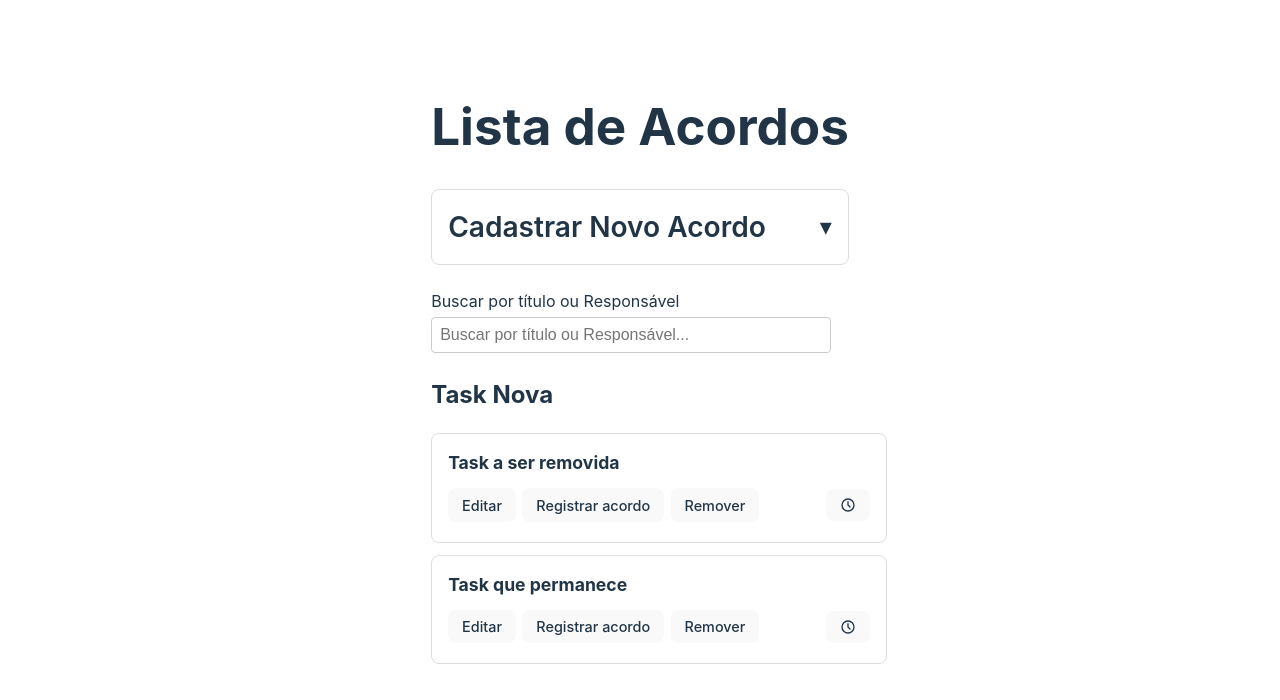
Test: ListaDeAcordosPage › ao remover uma Task (confirmando a remoção), atualiza a lista exibida (Requisito 9.4)
Check: the heading "Task a ser removida" is shown, box 448,452 -> 620,473
Check: the heading "Task que permanece" is shown, box 448,574 -> 627,595
Click the 1st button with test id "task-card-remover". click: x=715, y=505
box: 671,488 -> 759,522
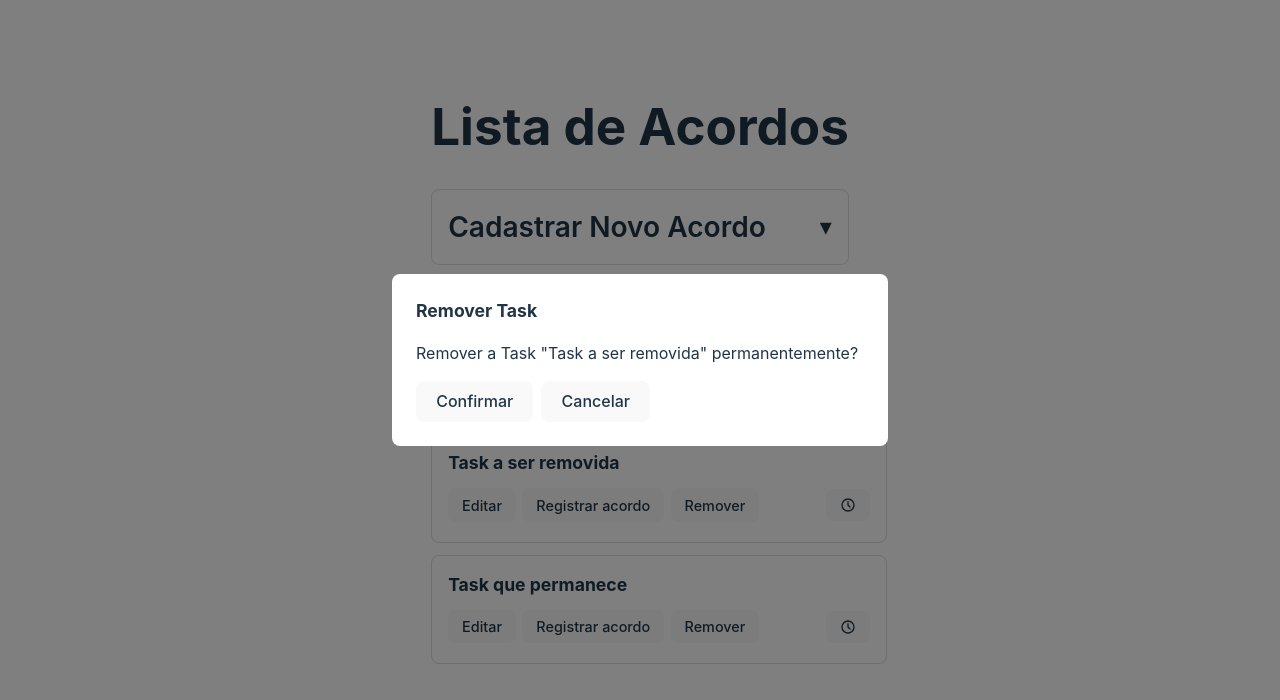
Click the button with test id "task-card-confirmar-remocao". click: x=475, y=401
box: 416,381 -> 533,422
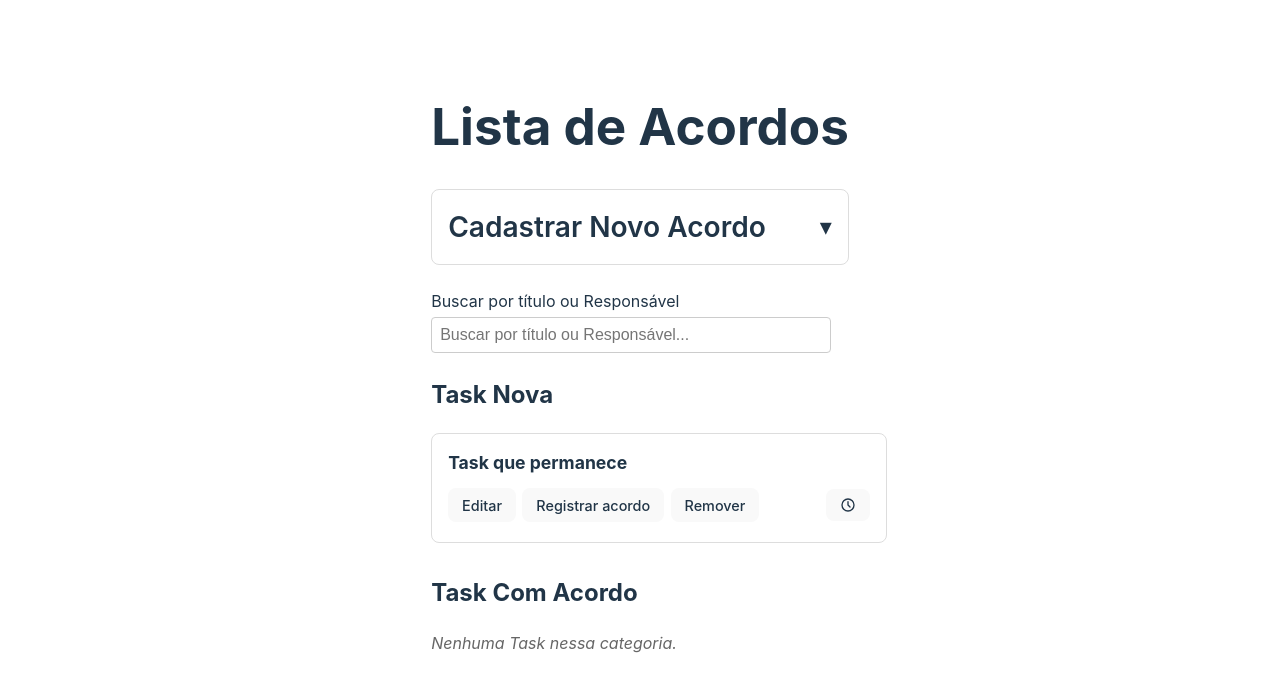
Check: the heading "Task que permanece" is shown, box 448,452 -> 627,473
Check: the button "Task a ser removida" is gone
